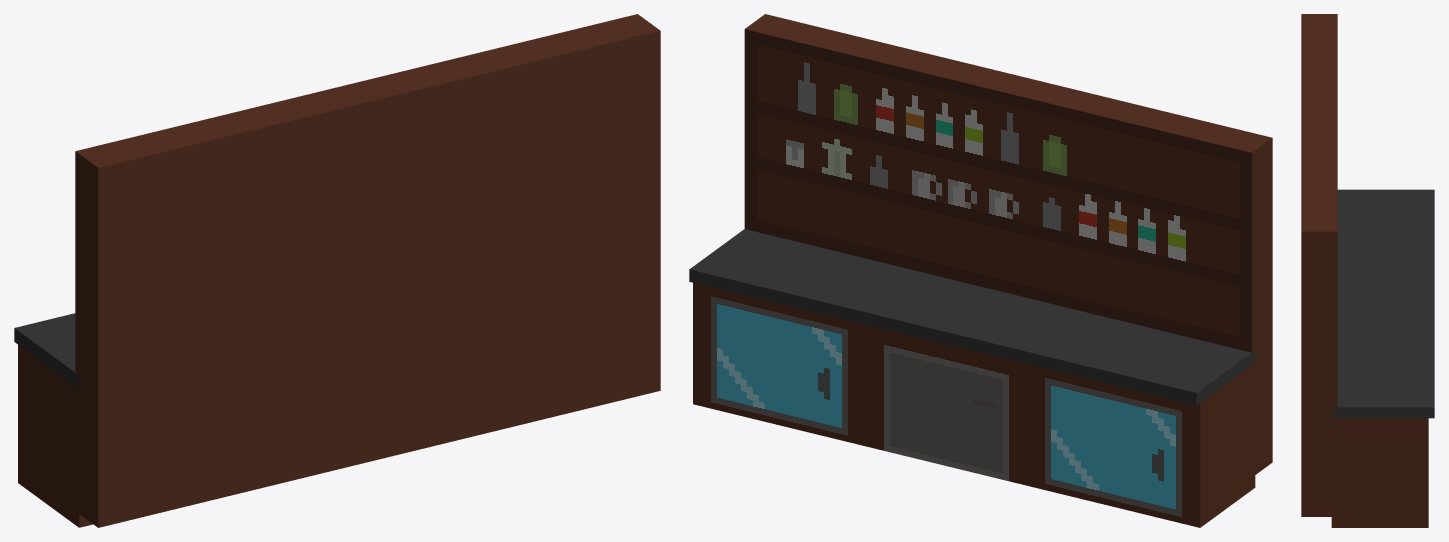
The model's file is barback.gltf.
The picture shows the model from 3 angles, left to right: view 1: azimuth 30°, elevation 25°; view 2: azimuth 150°, elevation 25°; view 3: azimuth 270°, elevation 25°; orthographic projection. The views are drawn at different scales.
Parts seen in each view (by area): view 1: cuboid; view 2: cuboid; view 3: cuboid.
Boxes of the visible parts, x1,y1,x2,y2 form: cuboid: (14, 14, 660, 527); cuboid: (689, 14, 1272, 527); cuboid: (1301, 14, 1434, 527).
Bounding box in the file's own units: 5.31 × 3.38 × 1.38.
1 material, 1 textured.
